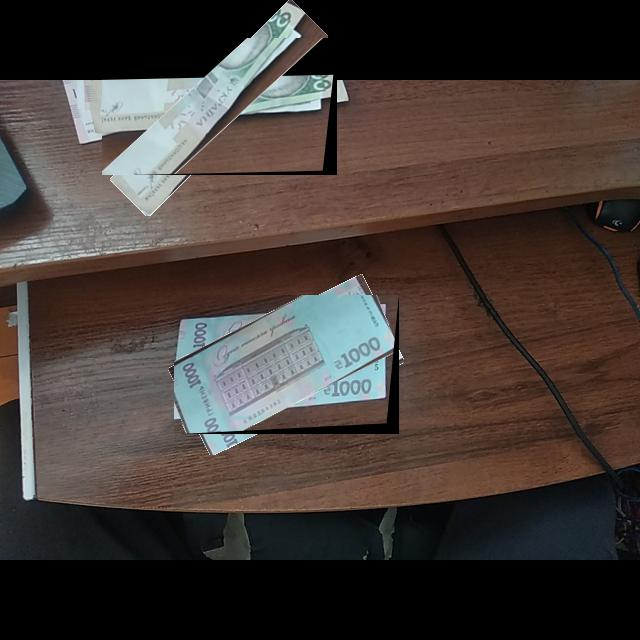1000uah: (174, 295, 400, 435)
500uah: (102, 38, 338, 176)
